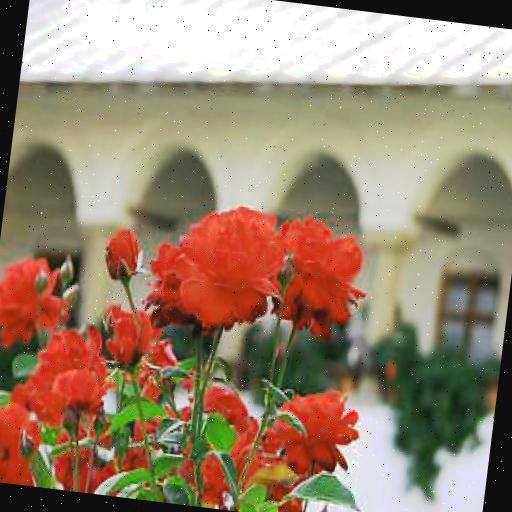rose: (170, 198, 290, 336), (272, 208, 374, 339), (100, 300, 158, 363), (100, 226, 144, 276)
